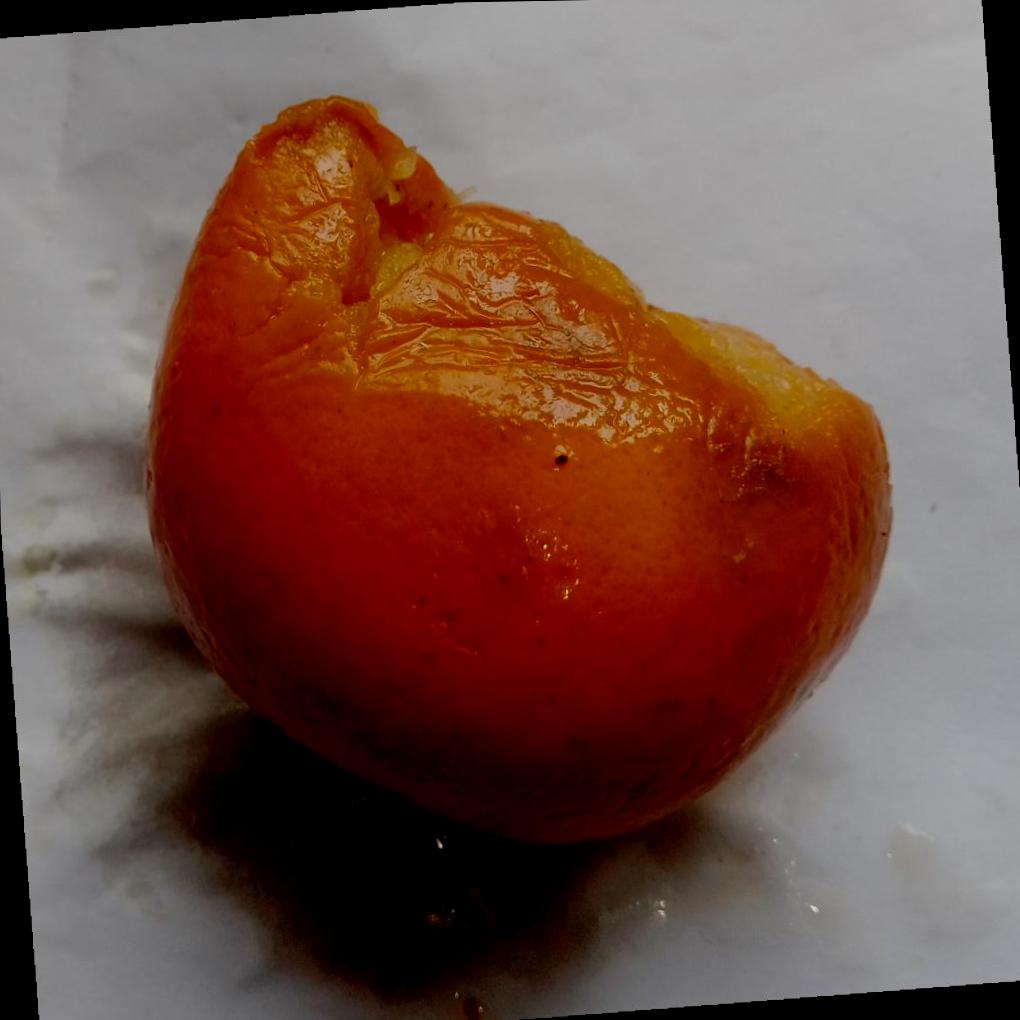FreshOrange: (147, 93, 897, 847)
